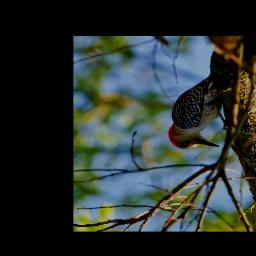Woodpecker: (154, 68, 234, 153)
